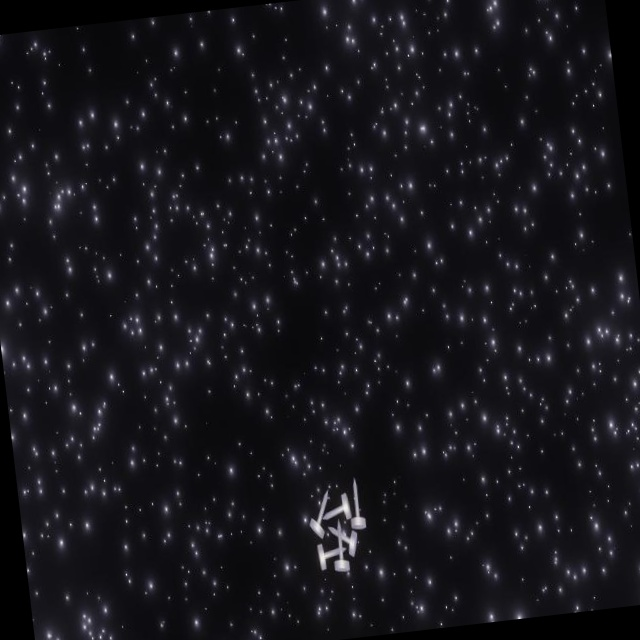large_debris: (295, 475, 377, 582)
